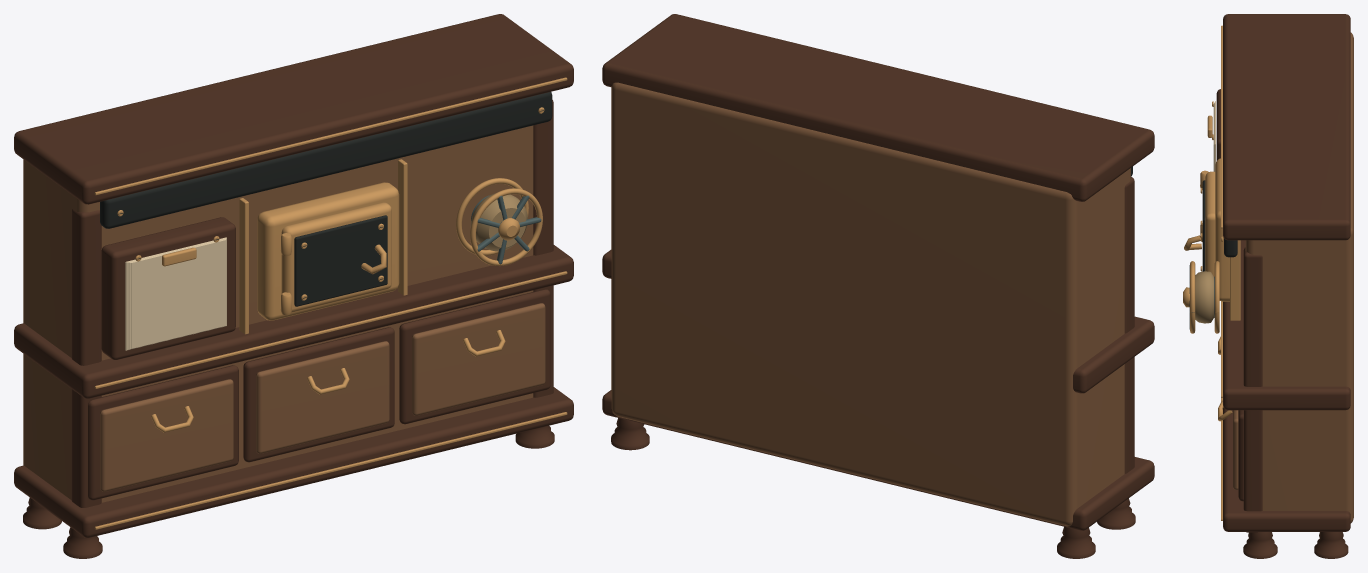
Rendered from intake.glb.
3 renders of one model, left to right at view 1: azimuth 30°, elevation 25°; view 2: azimuth 150°, elevation 25°; view 3: azimuth 270°, elevation 25°, orthographic. The views are drawn at different scales.
Visible parts, largest first — view 1: Projecting moulded rail.002, Carcass, Projecting moulded rail.001, Projecting moulded rail, Cast header plate, Fielded walnut panel, Fielded walnut panel.001, Fielded walnut panel.002, Deckled folio leaf.004, Dovetailed document tray, Ebonised stile, Raised moulded face (+17 smaller); view 2: Carcass, Projecting moulded rail.002, Projecting moulded rail, Ebonised stile, Projecting moulded rail.001, Turned pilaster foot.001, Turned pilaster foot.003, Turned pilaster foot; view 3: Projecting moulded rail.002, Carcass, Projecting moulded rail.001, Ebonised stile.001, Projecting moulded rail, Rebated hatch casing, Deep-pressed hatch leaf, Cord wound around hub, Turned pilaster foot.003, Turned pilaster foot.002, Station divider.001, Recessed door panel.002 (+7 smaller).
Part boxes in pixels (x1,y1,x2,y2): Projecting moulded rail.002: (14, 14, 573, 204); Carcass: (23, 125, 533, 502); Projecting moulded rail.001: (14, 245, 573, 398); Projecting moulded rail: (14, 387, 573, 537); Cast header plate: (100, 92, 552, 228); Fielded walnut panel: (100, 379, 233, 491); Fielded walnut panel.001: (256, 341, 389, 453); Fielded walnut panel.002: (412, 303, 545, 415); Deckled folio leaf.004: (131, 239, 226, 348); Dovetailed document tray: (101, 217, 235, 359); Ebonised stile: (71, 209, 101, 507); Raised moulded face: (294, 215, 387, 306); Carcass: (611, 82, 1130, 526); Projecting moulded rail.002: (602, 14, 1154, 201); Projecting moulded rail: (602, 390, 1154, 530); Ebonised stile: (1124, 177, 1134, 473); Projecting moulded rail.001: (602, 250, 1154, 393); Turned pilaster foot.001: (1057, 526, 1095, 558); Turned pilaster foot.003: (611, 418, 649, 450); Turned pilaster foot: (1097, 498, 1135, 529); Projecting moulded rail.002: (1223, 14, 1350, 240); Carcass: (1245, 32, 1353, 523); Projecting moulded rail.001: (1223, 240, 1350, 410); Ebonised stile.001: (1243, 247, 1262, 532); Projecting moulded rail: (1223, 407, 1350, 531); Rebated hatch casing: (1215, 158, 1229, 301); Deep-pressed hatch leaf: (1205, 171, 1215, 276); Cord wound around hub: (1195, 271, 1213, 323); Turned pilaster foot.003: (1314, 532, 1348, 558); Turned pilaster foot.002: (1243, 532, 1277, 558); Station divider.001: (1230, 240, 1240, 320); Recessed door panel.002: (1238, 410, 1243, 501).
Size of the model in its own units: 2.52 by 1.9 by 0.869.
